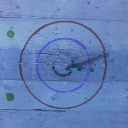Axe Tip: (70, 65, 82, 67)
